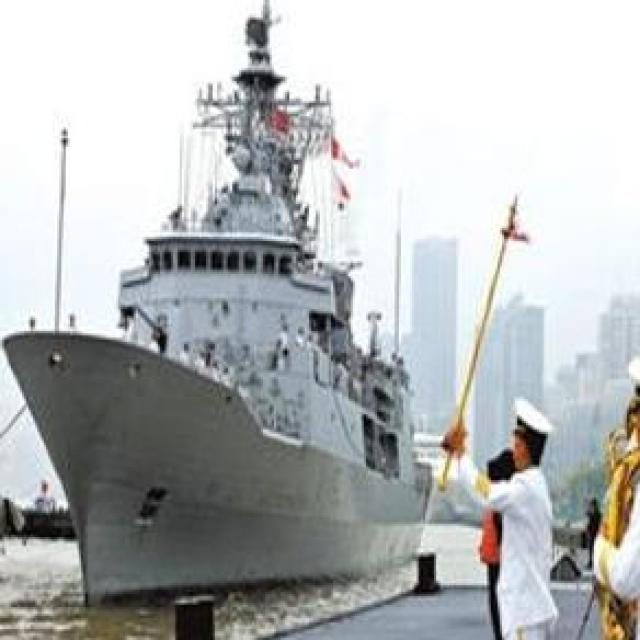navalvessels: (8, 0, 440, 607)
